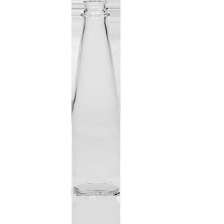bottle: (68, 0, 123, 198)
